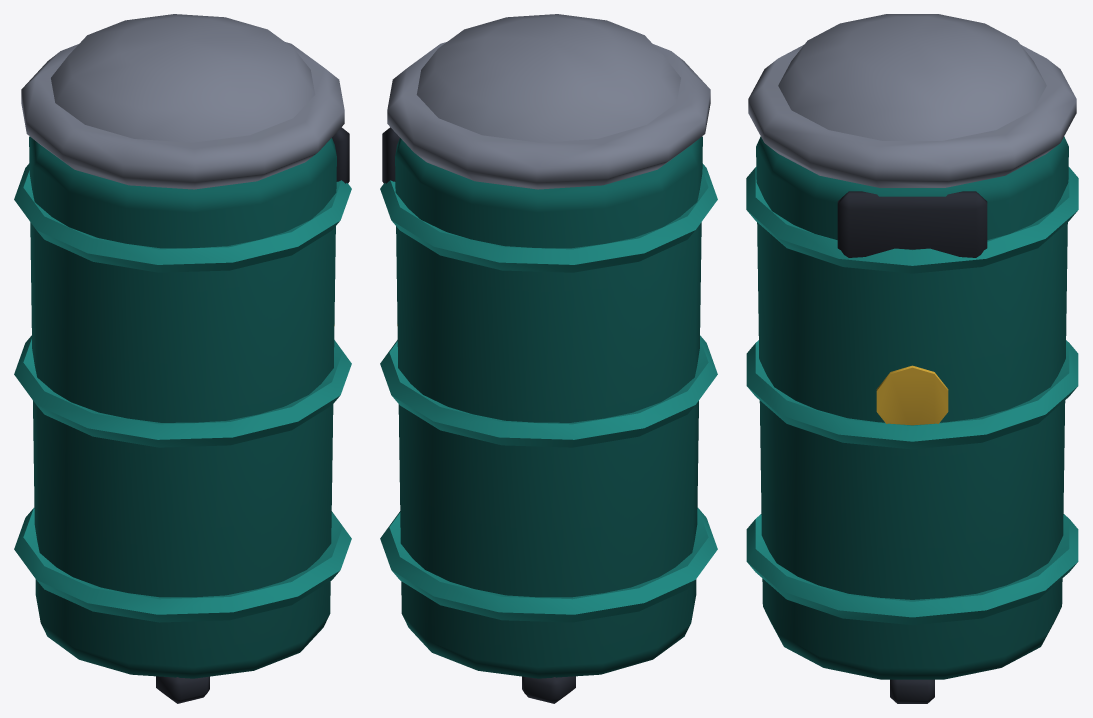
Rendered from SM_City_TrashBin.fbx.
3 renders of one model, left to right at view 1: azimuth 30°, elevation 25°; view 2: azimuth 150°, elevation 25°; view 3: azimuth 270°, elevation 25°, orthographic.
Parts seen in each view (by area): view 1: SM_City_TrashBin; view 2: SM_City_TrashBin; view 3: SM_City_TrashBin.
Boxes of the visible parts, bbox=[...] form: SM_City_TrashBin: bbox=[14, 14, 351, 703]; SM_City_TrashBin: bbox=[380, 14, 717, 703]; SM_City_TrashBin: bbox=[746, 14, 1078, 703].
Bounding box in the file's own units: 45.66 × 90.08 × 44.51.
